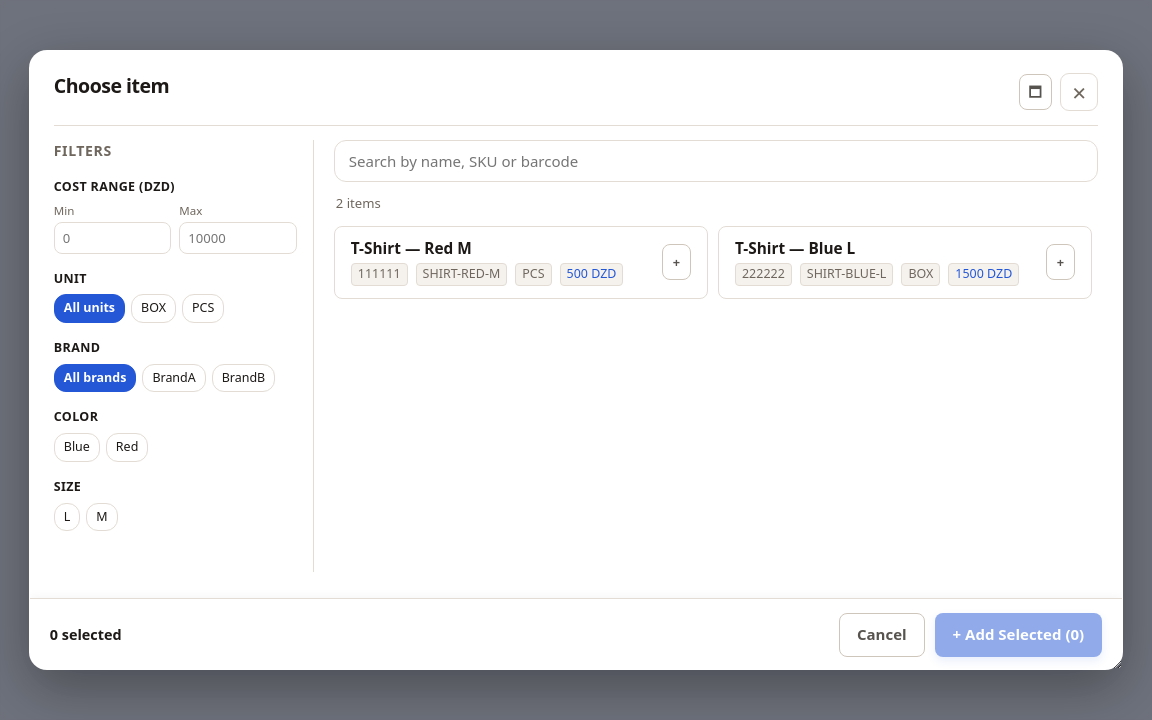
Test: PurchaseItemPicker - side filters › renders side filter sections and filters by attribute chip
expect the element with test id "purchase-item-picker-sidebar" is shown: met, box [54,140,314,572]
expect the button with test id "filter-attr-Color-Blue" is shown: met, box [54,433,100,462]
# Click Red attribute chip
Click the button with test id "filter-attr-Color-Red".
click(127, 447)  # box [106,433,148,462]
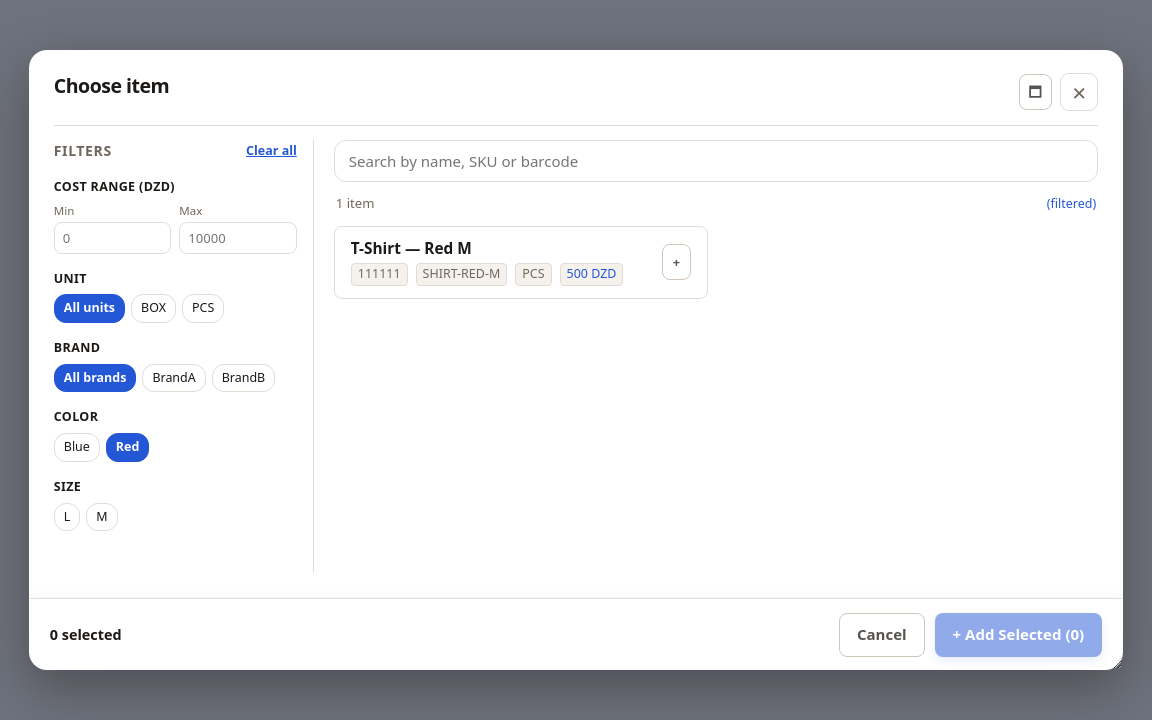
expect the button with test id "purchase-item-option-101" is shown: met, box [334,226,708,299]
expect the button with test id "purchase-item-option-102" is gone: met
# Click Clear all
Click the button with test id "purchase-picker-clear-filters".
click(271, 151)  # box [246,142,297,160]
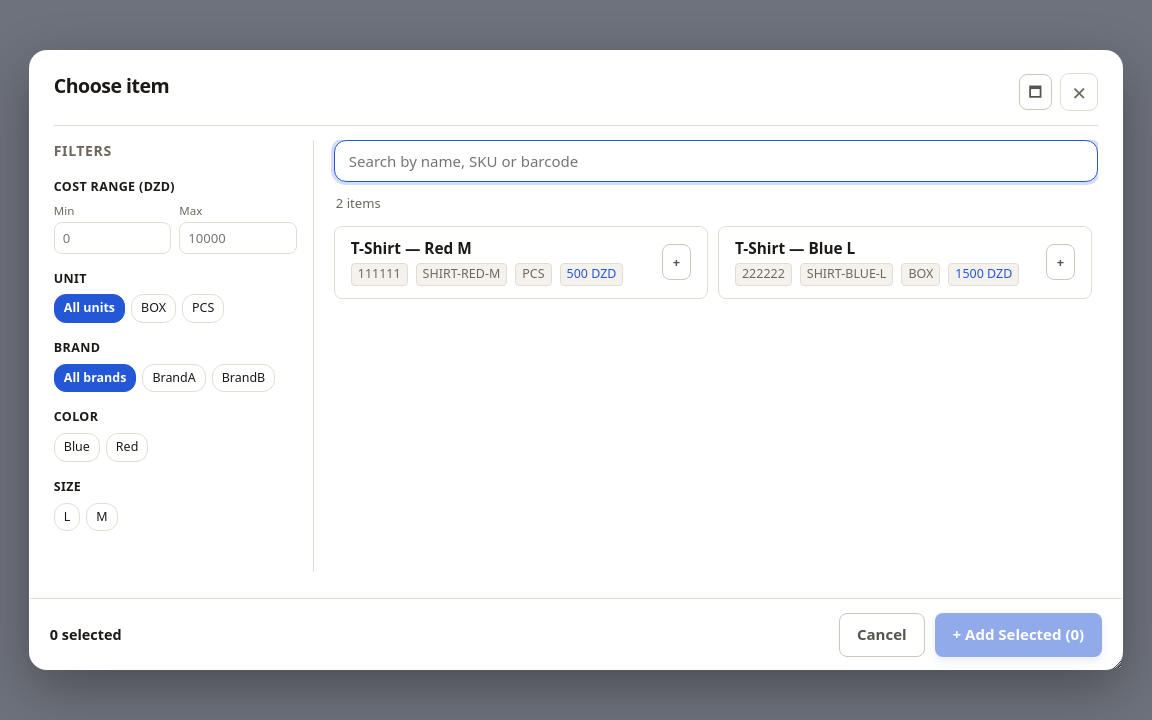
expect the button with test id "purchase-item-option-101" is shown: met, box [334,226,708,299]
expect the button with test id "purchase-item-option-102" is shown: met, box [718,226,1092,299]
